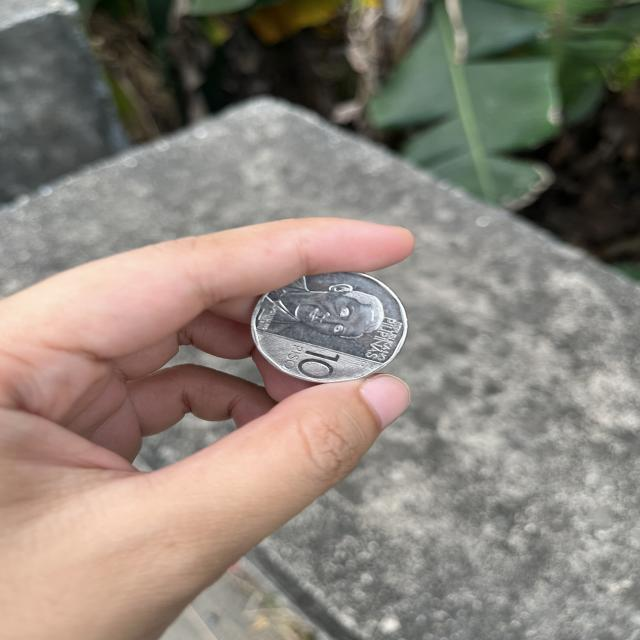10_New_Front: (280, 340, 342, 378)
